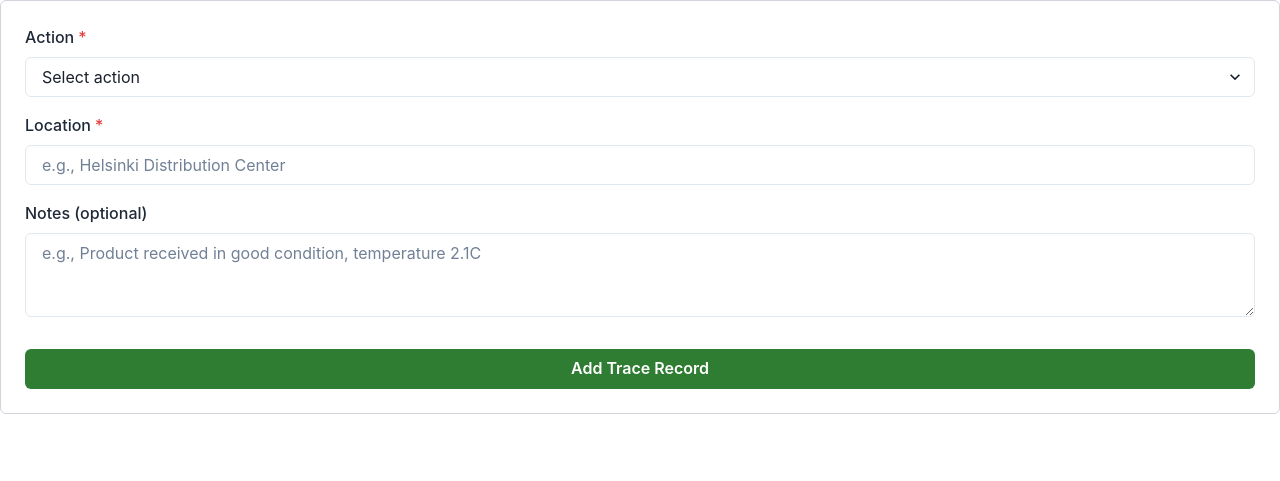
Test: TraceRecordForm › Form rendering › should clear error when field is corrected
# Trigger validation error using fireEvent.submit to bypass native validation
Submit the form
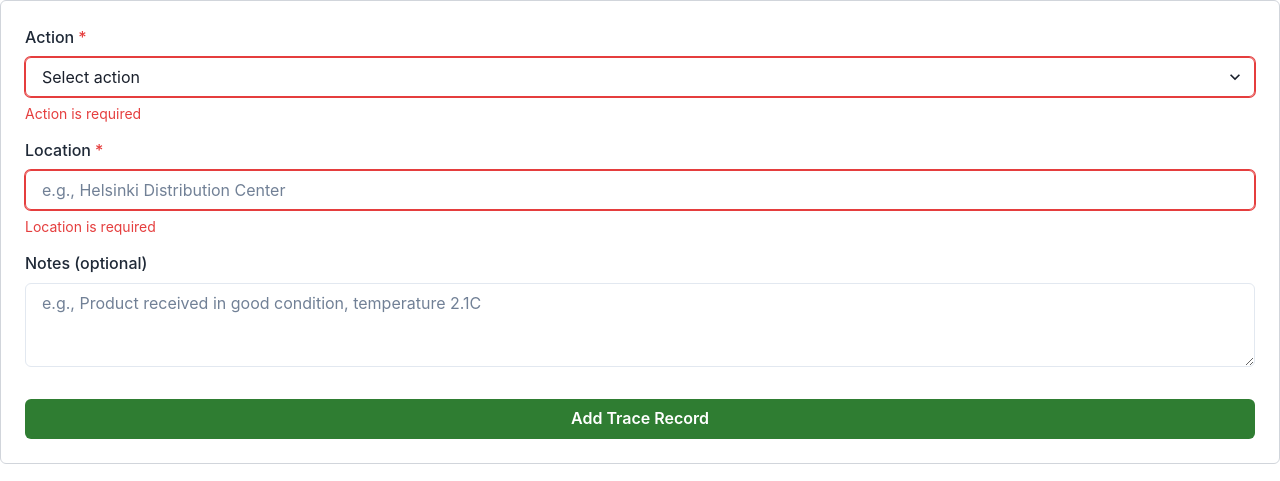
Now the text "Action is required" is shown, box [25, 105, 141, 122]
# Fix the error by selecting an action
Select "Received" in the dropdown. click: (640, 77)
box: [25, 57, 1255, 97]
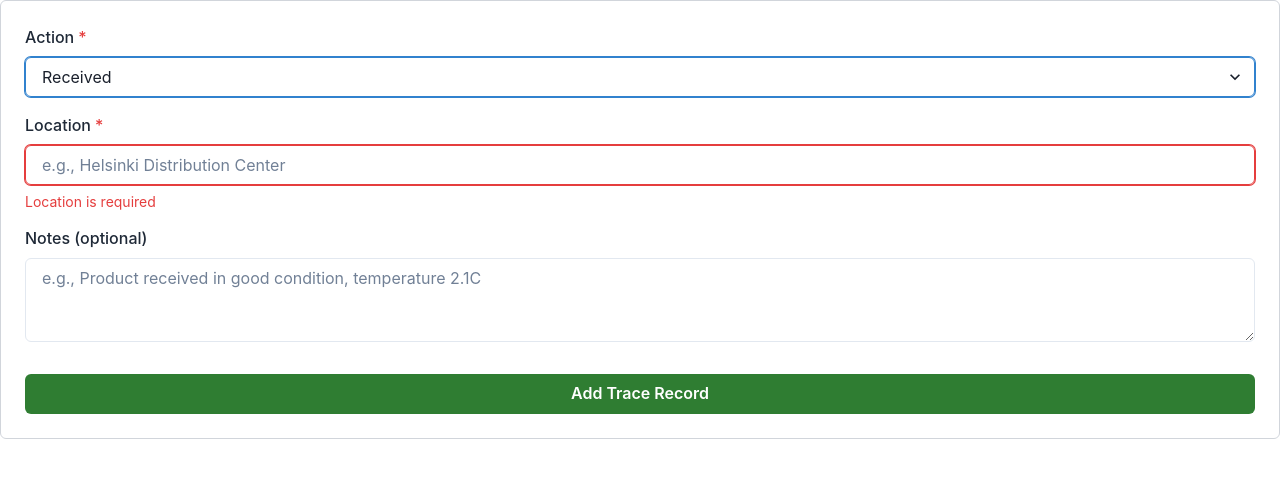
Now the text "Action is required" is gone
